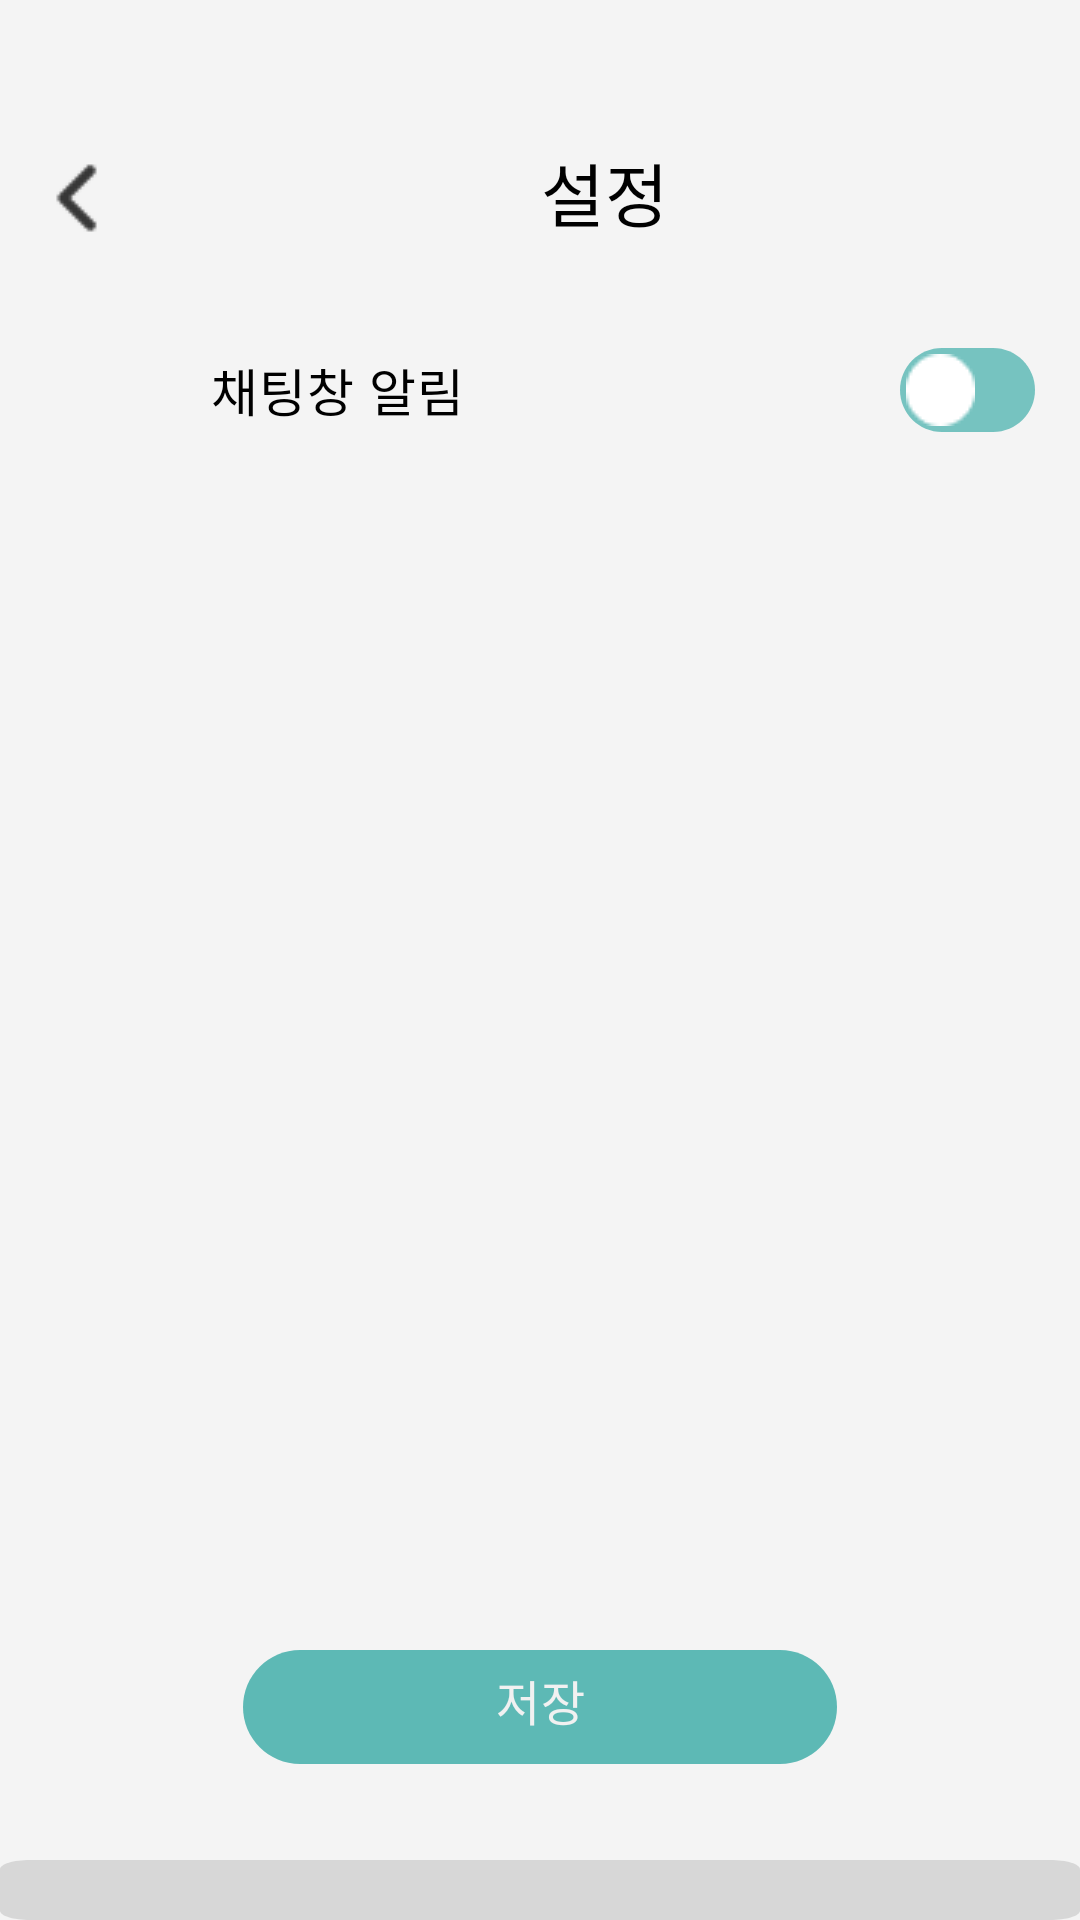

Where icons sit on this 1080w x 1920h app screen, as (x1, y1, x2, y2):
chevron: (56, 164, 97, 232)
